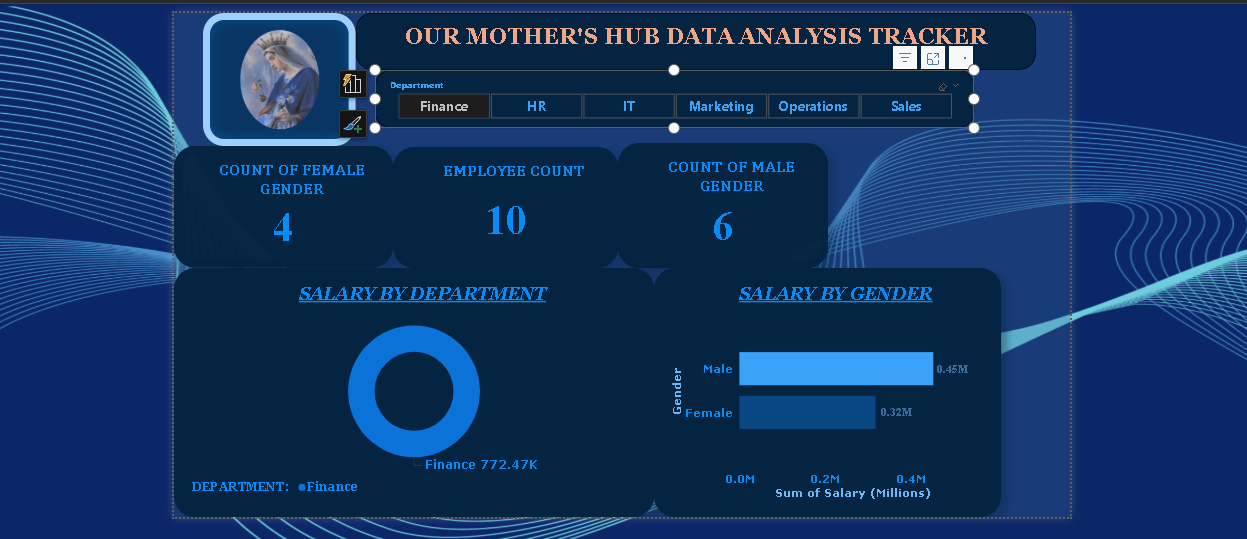

The page's visual inventory and layout, read from the dashboard file:
{"tool":"powerbi","page":{"name":"Page REPORT","canvas":[1280,720],"ordinal":0},"visuals":[{"type":"card","title":"EMPLOYEE COUNT","fields":{"Values":["HR_Employee_Data.Measure 2"]},"box":[312.9,190,321.4,174.3],"z":0},{"type":"card","title":" COUNT OF MALE GENDER","fields":{"Values":["Count(HR_Employee_Data)"]},"box":[634.3,185.7,300,178.6],"z":1000},{"type":"card","title":" COUNT OF FEMALE GENDER","fields":{"Values":["Count(HR_Employee_Data)"]},"box":[0,190,312.9,174.3],"z":2000},{"type":"textbox","box":[260,0,971.4,81.4],"z":3000},{"type":"image","box":[41.7,0,218.3,190],"z":4000},{"type":"donutChart","title":"SALARY BY DEPARTMENT","fields":{"Y":["Sum(HR_Employee_Data.Salary)"],"Category":["HR_Employee_Data.Department"]},"box":[0,364.3,685.7,355.7],"z":5000},{"type":"clusteredBarChart","title":"SALARY BY GENDER","fields":{"Y":["Sum(HR_Employee_Data.Salary)"],"Category":["HR_Employee_Data.Gender"]},"box":[685.7,364.3,495.7,355.7],"z":6000},{"type":"slicer","fields":{"Values":["HR_Employee_Data.Department"]},"box":[287.1,81.4,855.7,82.9],"z":7000}]}

Visuals, with their boxes on the page's 1280x720 design canvas (x1, y1, x2, y2). These are canvas units, not pixel positions in the 1247x539 screenshot, which may show the page scaled, cropped or inside an application window:
"EMPLOYEE COUNT" card: rect(313, 190, 634, 364)
" COUNT OF MALE GENDER" card: rect(634, 186, 934, 364)
" COUNT OF FEMALE GENDER" card: rect(0, 190, 313, 364)
textbox: rect(260, 0, 1231, 81)
image: rect(42, 0, 260, 190)
"SALARY BY DEPARTMENT" donutChart: rect(0, 364, 686, 720)
"SALARY BY GENDER" clusteredBarChart: rect(686, 364, 1181, 720)
slicer - HR_Employee_Data.Department: rect(287, 81, 1143, 164)
